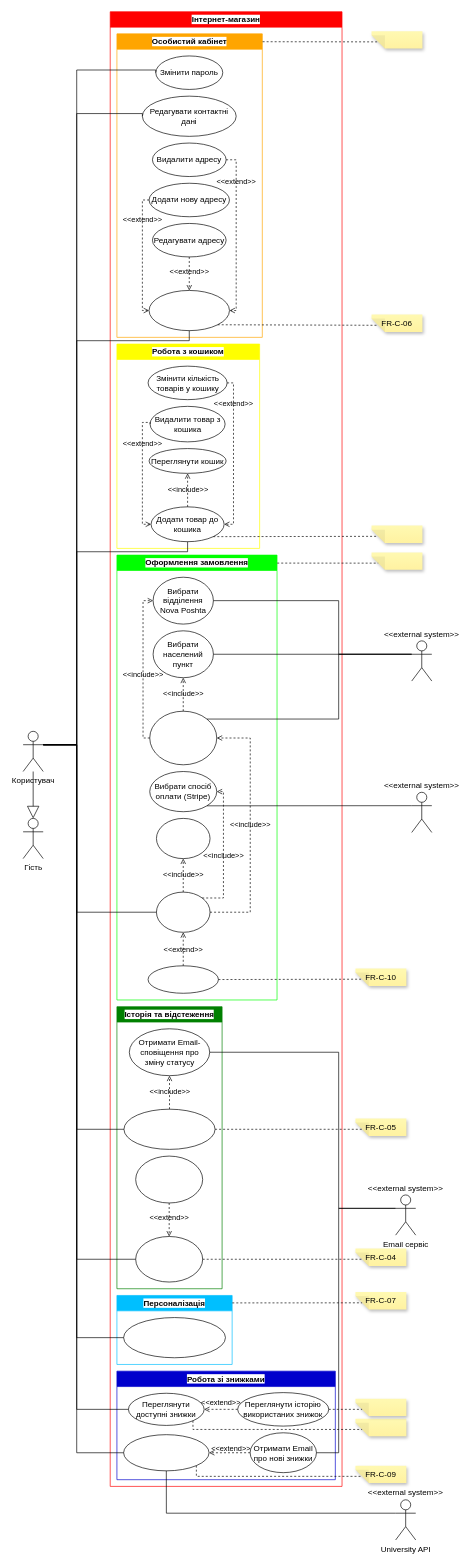
Some shapes in this 473 by 1566 pixel diagram are drawn without their labels. Each missing label, with the centre of its shape:
"FR-C-01" goes at point 397,535.
"FR-C-02" goes at point 397,561.
"FR-C-03" goes at point 397,40.
"FR-C-08" goes at point 381,1428.
"FR-C-11" goes at point 381,1408.
"Nova Poshta API" goes at point 421,660.
"Stripe API" goes at point 421,812.
"Ввести промокод" goes at point 182,979.
"Верифікувати студентський статус" goes at point 166,1452.
"Вибрати спосіб доставки (Nova Poshta)" goes at point 183,738.
"Відстежувати статус замовлення" goes at point 169,1129.
"Керувати адресами доставки" goes at point 188,310.
"Отримати персональні рекомендації товарів" goes at point 174,1337.
"Оформити замовлення" goes at point 183,911.
"Переглянути деталі замовлення" goes at point 169,1179.
"Переглянути історію замовлень" goes at point 169,1259.
"Підтвердити замовлення" goes at point 183,838.
